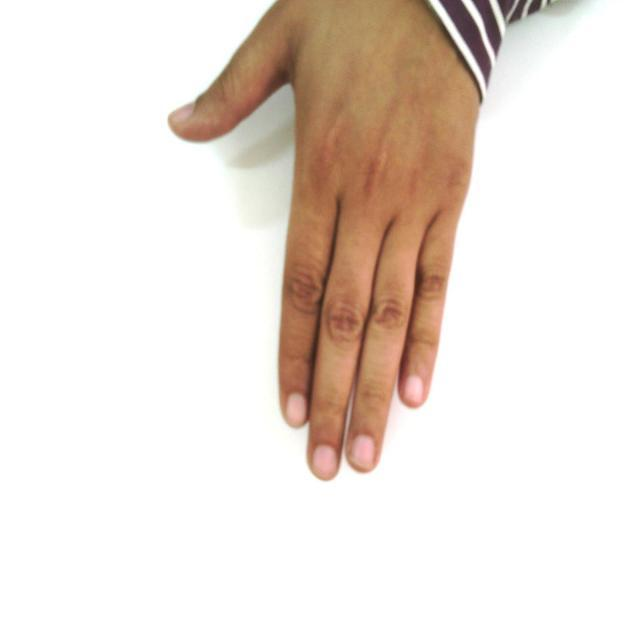Fingernail: (313, 446, 337, 480), (351, 436, 375, 469), (287, 394, 307, 427), (403, 376, 423, 406), (169, 105, 194, 126)
